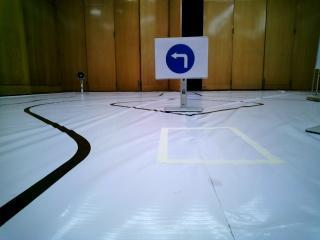left: (157, 40, 209, 78)
